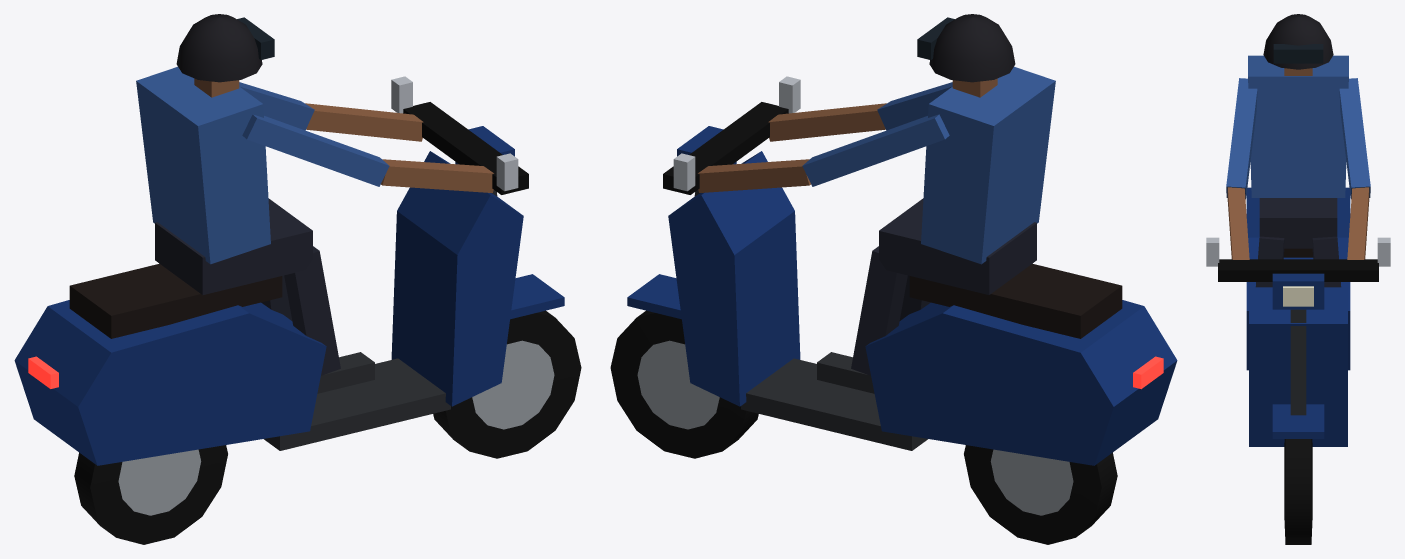
The model's file is scooter.glb.
The picture shows the model from 3 angles, left to right: view 1: azimuth 30°, elevation 25°; view 2: azimuth 150°, elevation 25°; view 3: azimuth 270°, elevation 25°; orthographic projection. The views are drawn at different scales.
Parts seen in each view (by area): view 1: scooter_body, wheel_f, wheel_r; view 2: scooter_body, wheel_f, wheel_r; view 3: scooter_body, wheel_f.
Boxes of the visible parts, x1,y1,x2,y2 form: scooter_body: (14,14,564,465); wheel_f: (433,310,581,458); wheel_r: (74,445,227,544); scooter_body: (627,14,1177,465); wheel_f: (610,310,758,458); wheel_r: (964,445,1117,544); scooter_body: (1206,14,1390,446); wheel_f: (1284,439,1312,544).
Bounding box in the file's own units: 1.93 × 1.74 × 0.71.
Materials: 2 (1 with a texture image).
